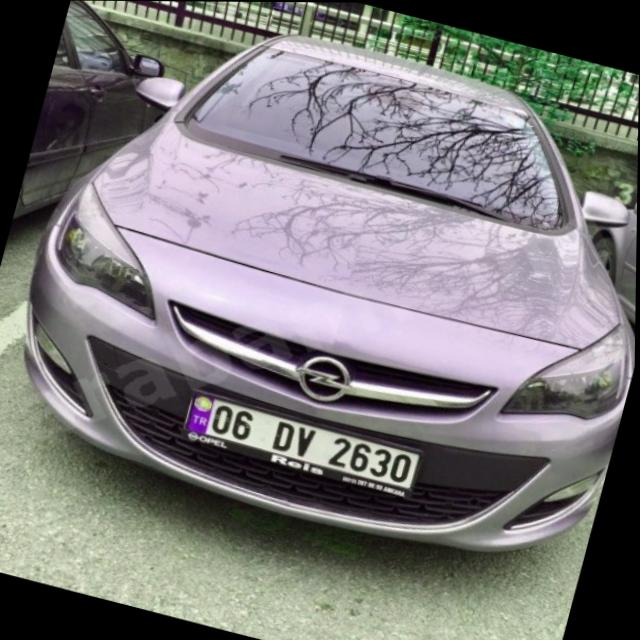license_plate: (181, 391, 423, 491)
